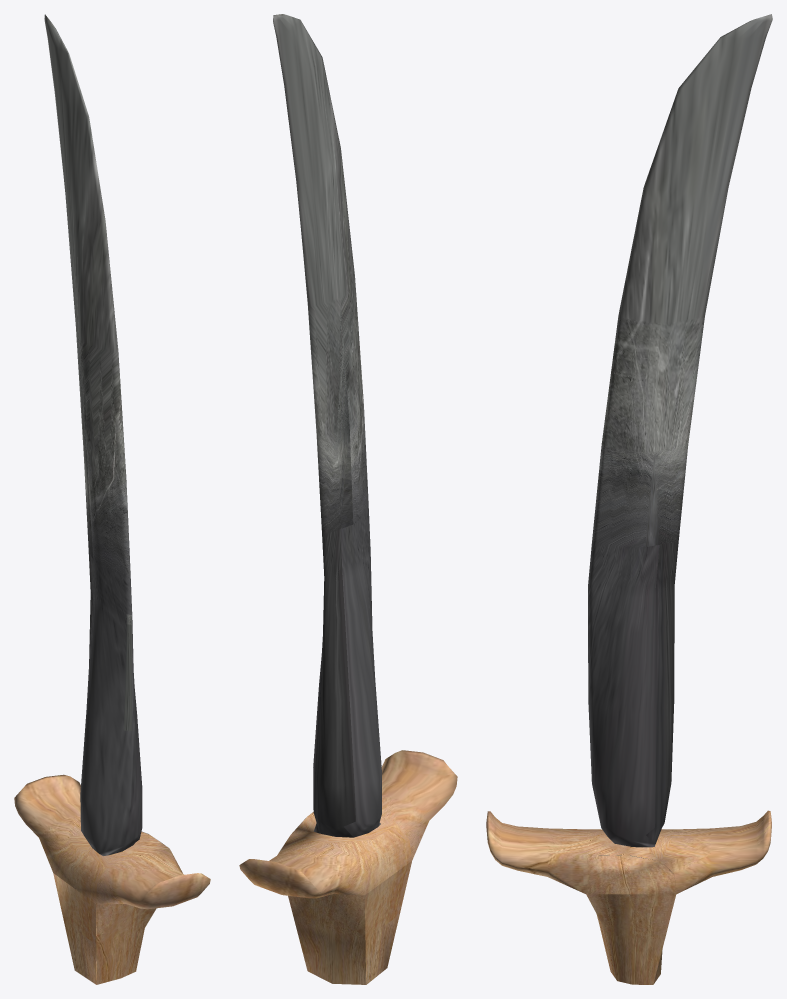
The model's file is sword.obj.
3 renders of one model, left to right at view 1: azimuth 30°, elevation 25°; view 2: azimuth 150°, elevation 25°; view 3: azimuth 270°, elevation 25°, orthographic. The views are drawn at different scales.
Parts seen in each view (by area): view 1: Cube; view 2: Cube; view 3: Cube.
Boxes of the visible parts, x1=… form: Cube: x1=14, y1=14, x2=210, y2=984; Cube: x1=239, y1=14, x2=457, y2=984; Cube: x1=486, y1=14, x2=772, y2=984.
Bounding box in the file's own units: 0.238 × 2.8 × 0.7573.
